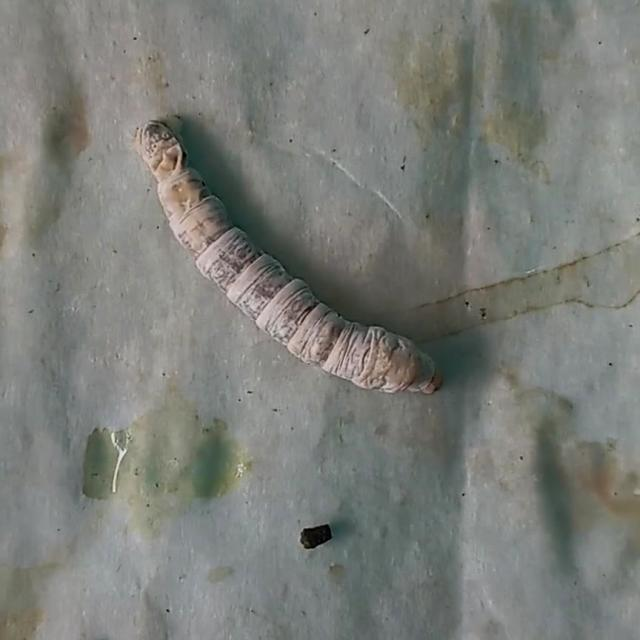Grasserie: (123, 108, 450, 418)
